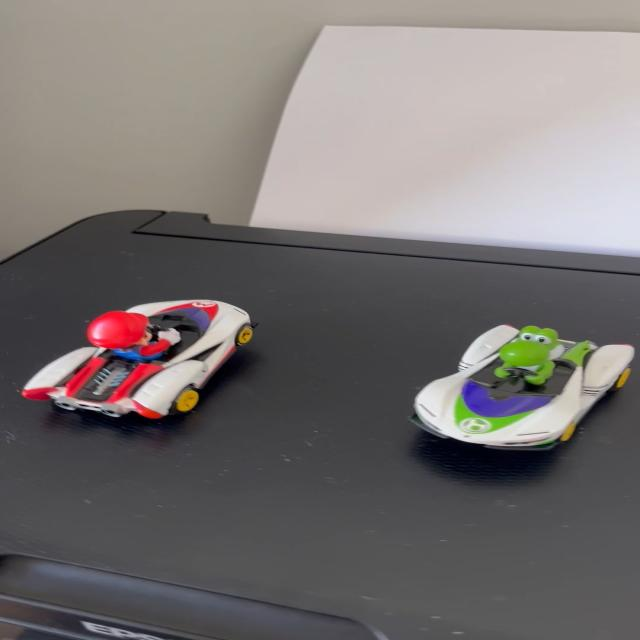mario: (9, 292, 274, 432)
yoshi: (398, 310, 640, 460)
